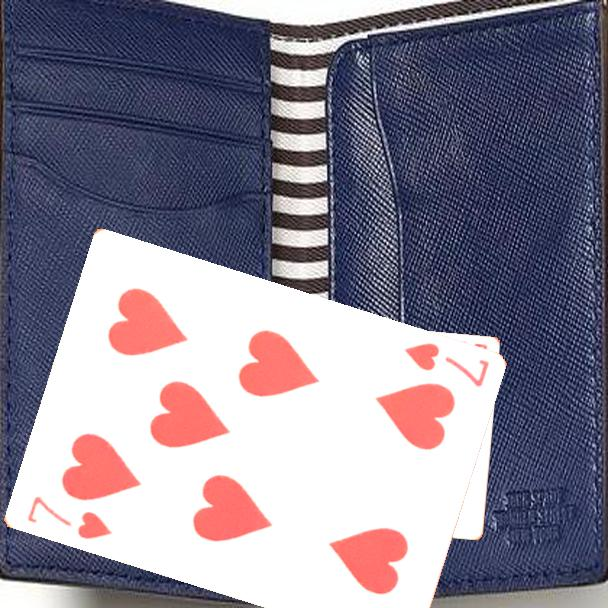h07: (400, 339, 492, 390), (23, 493, 114, 543)
